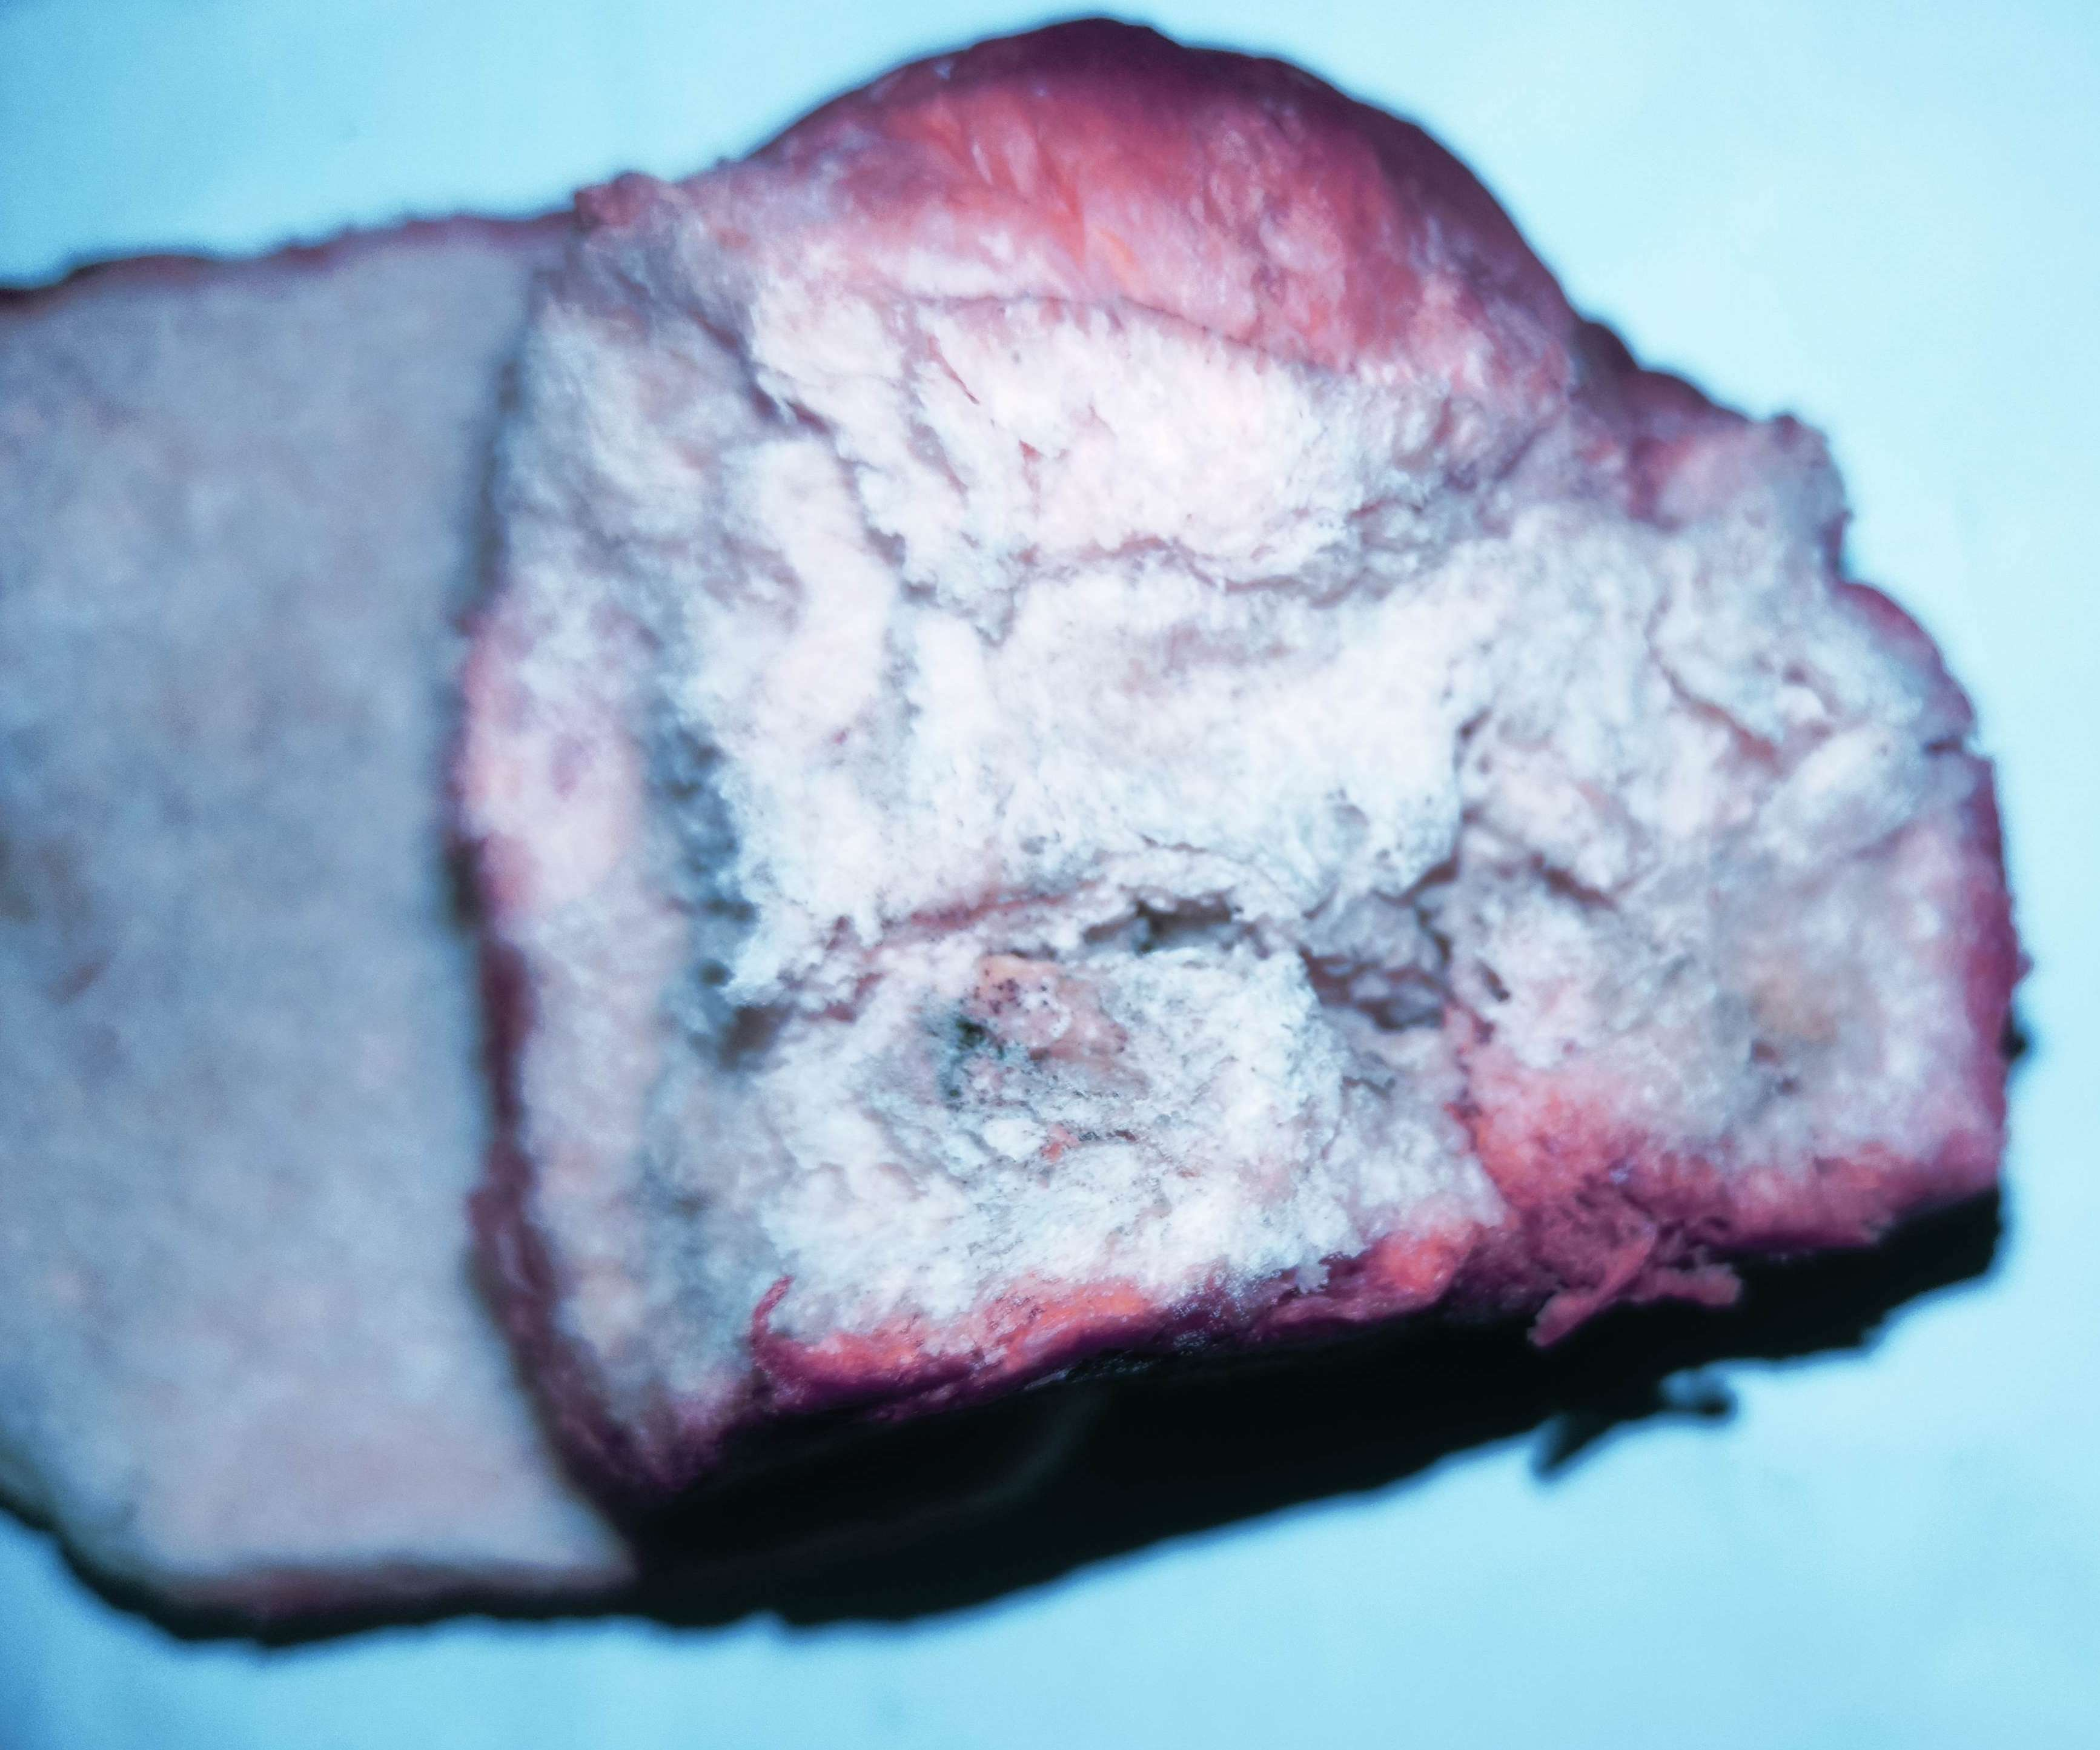mold_bread: (898, 947, 1149, 1157), (1727, 939, 1903, 1097)
